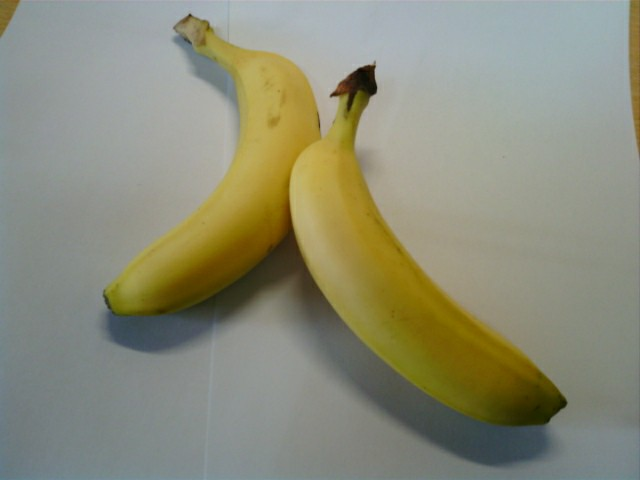fresh_banana: (289, 130, 566, 429), (90, 43, 324, 318)
